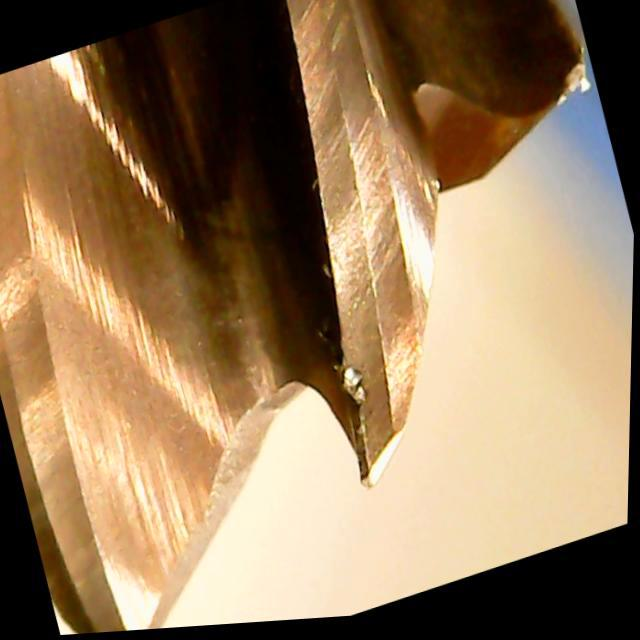Tool-wear-class-1: (281, 197, 479, 508)
